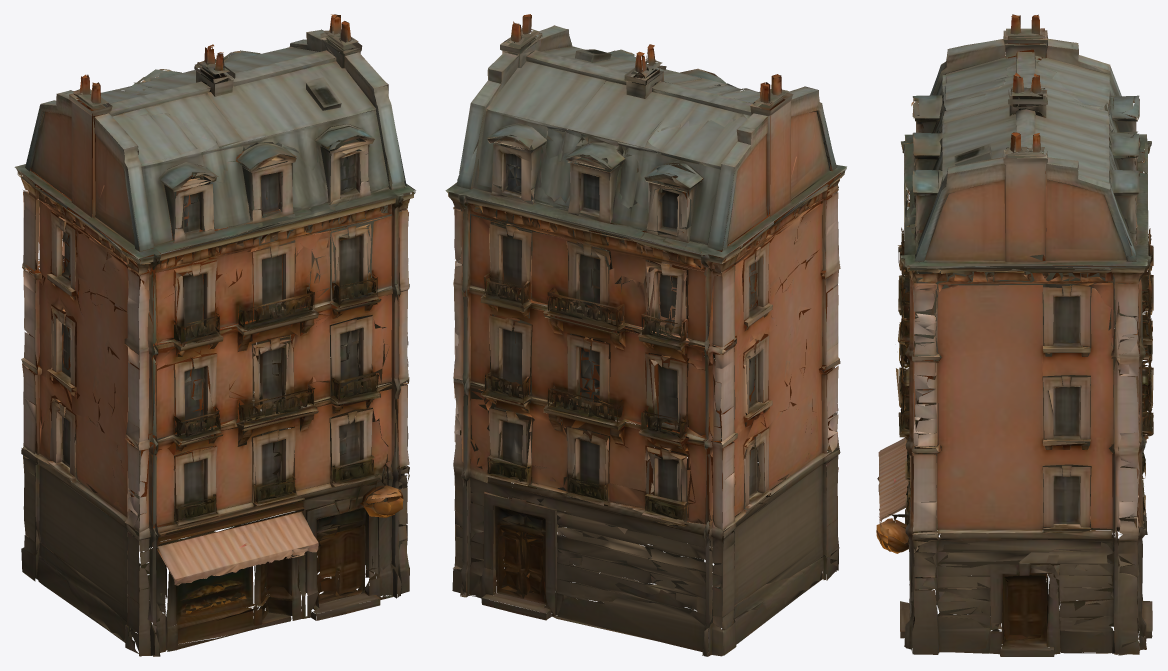
Rendered from ch03_shop_bakery_tenement.glb.
3 renders of one model, left to right at view 1: azimuth 30°, elevation 25°; view 2: azimuth 150°, elevation 25°; view 3: azimuth 270°, elevation 25°, orthographic. The views are drawn at different scales.
Visible parts, largest first — view 1: material; view 2: material; view 3: material.
Boxes of the visible parts, x1,y1,x2,y2 form: material: (14, 14, 415, 656); material: (445, 14, 846, 656); material: (876, 14, 1153, 656).
Bounding box in the file's own units: 0.5424 × 0.9945 × 0.4827.
Materials: 1 (1 with a texture image).
